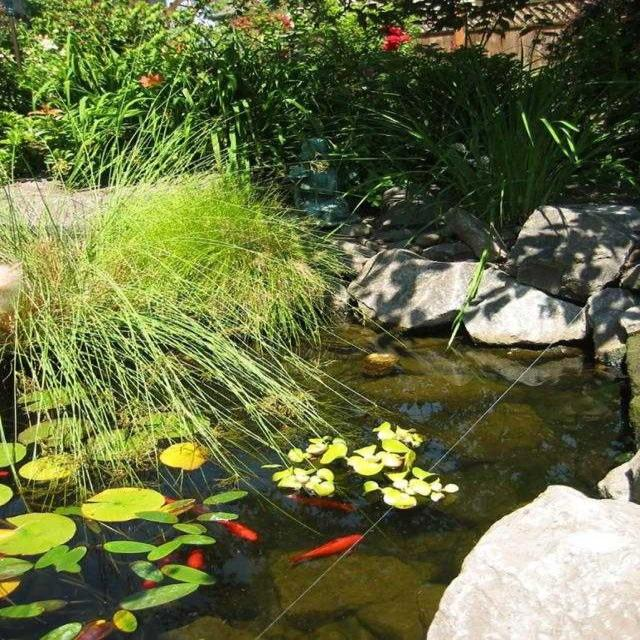Ponds: (1, 180, 640, 640)
